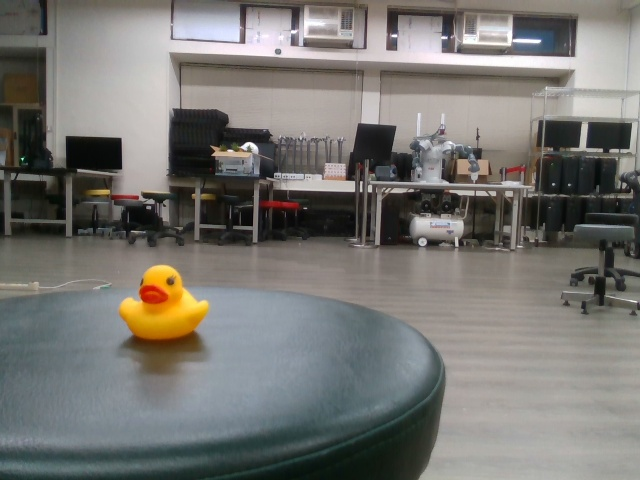duck: (116, 261, 213, 347)
